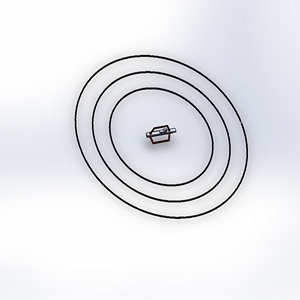circle: (67, 49, 254, 224)
submarine: (142, 117, 182, 152)
